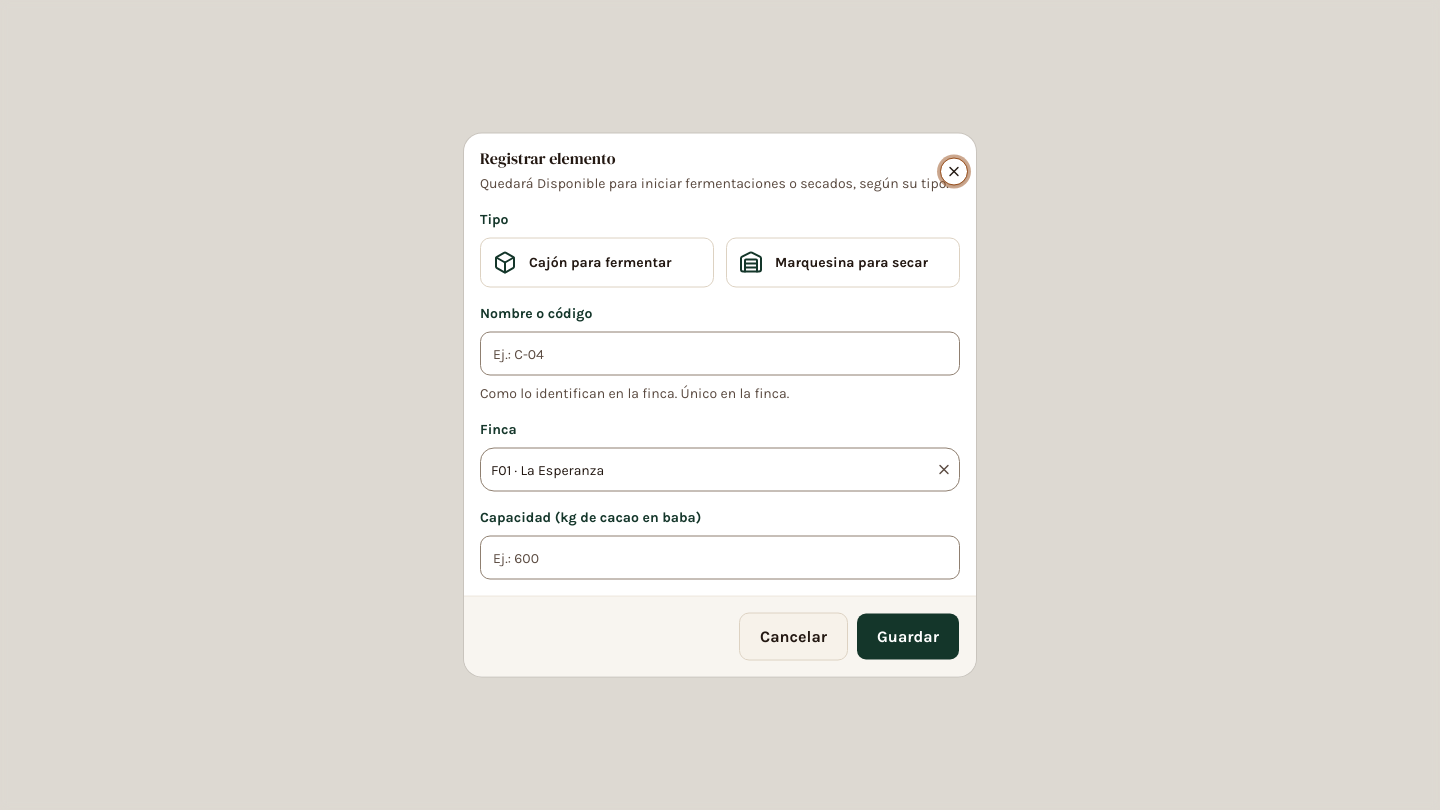
Test: the suggested name › proposes the next free name of the type chosen, and changes it with the type
Expected: the field labelled "Nombre o código" is empty, x1=480 y1=332 x2=960 y2=376
Click the radio button labelled "Cajón para fermentar": (597, 262) x1=480 y1=238 x2=714 y2=288
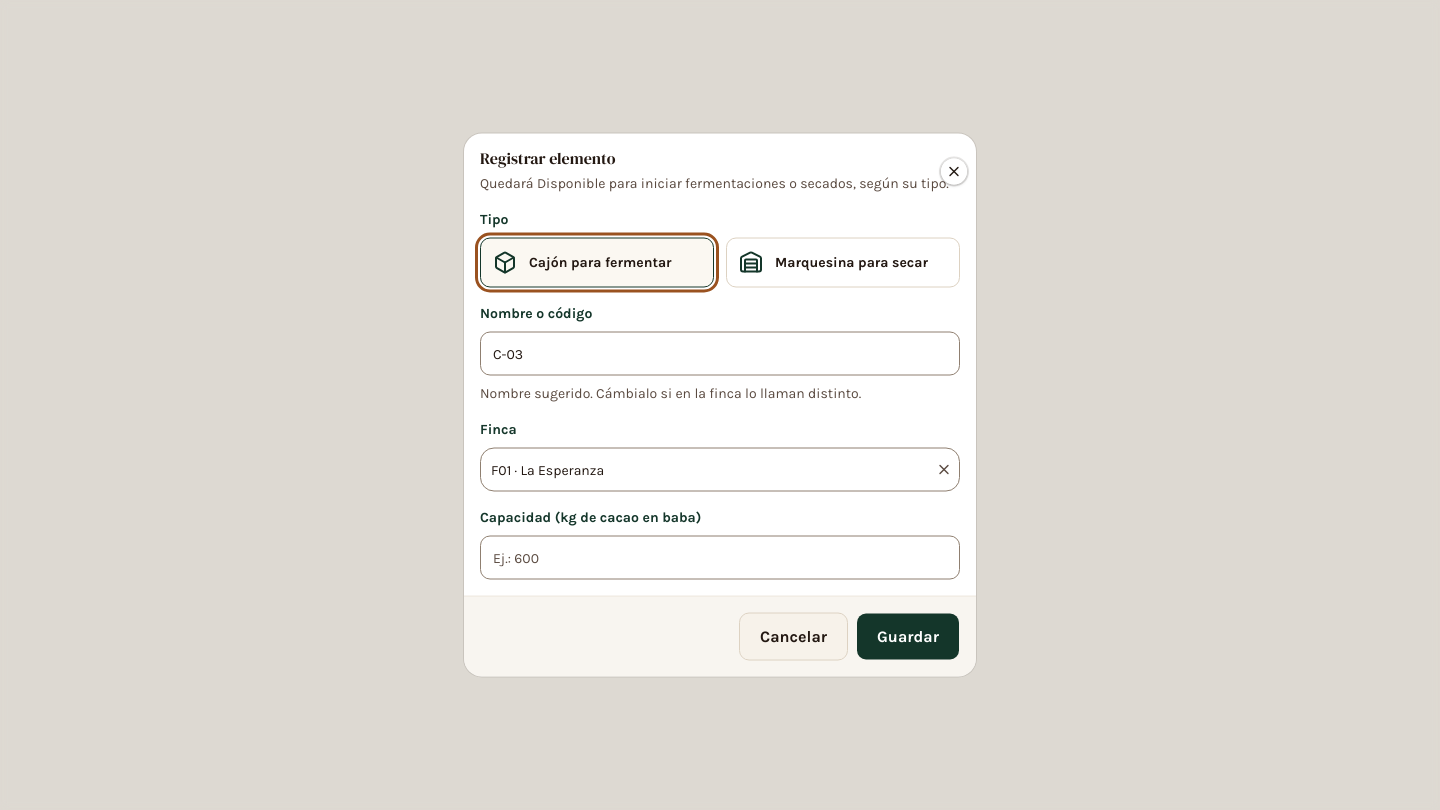
Now the field labelled "Nombre o código" holds "C-03", box x1=480 y1=332 x2=960 y2=376
Now the text "Nombre sugerido. Cámbialo si en la finca lo llaman distinto." is shown, box x1=480 y1=384 x2=861 y2=402
Click the radio button labelled "Marquesina para secar": (843, 262) x1=726 y1=238 x2=960 y2=288
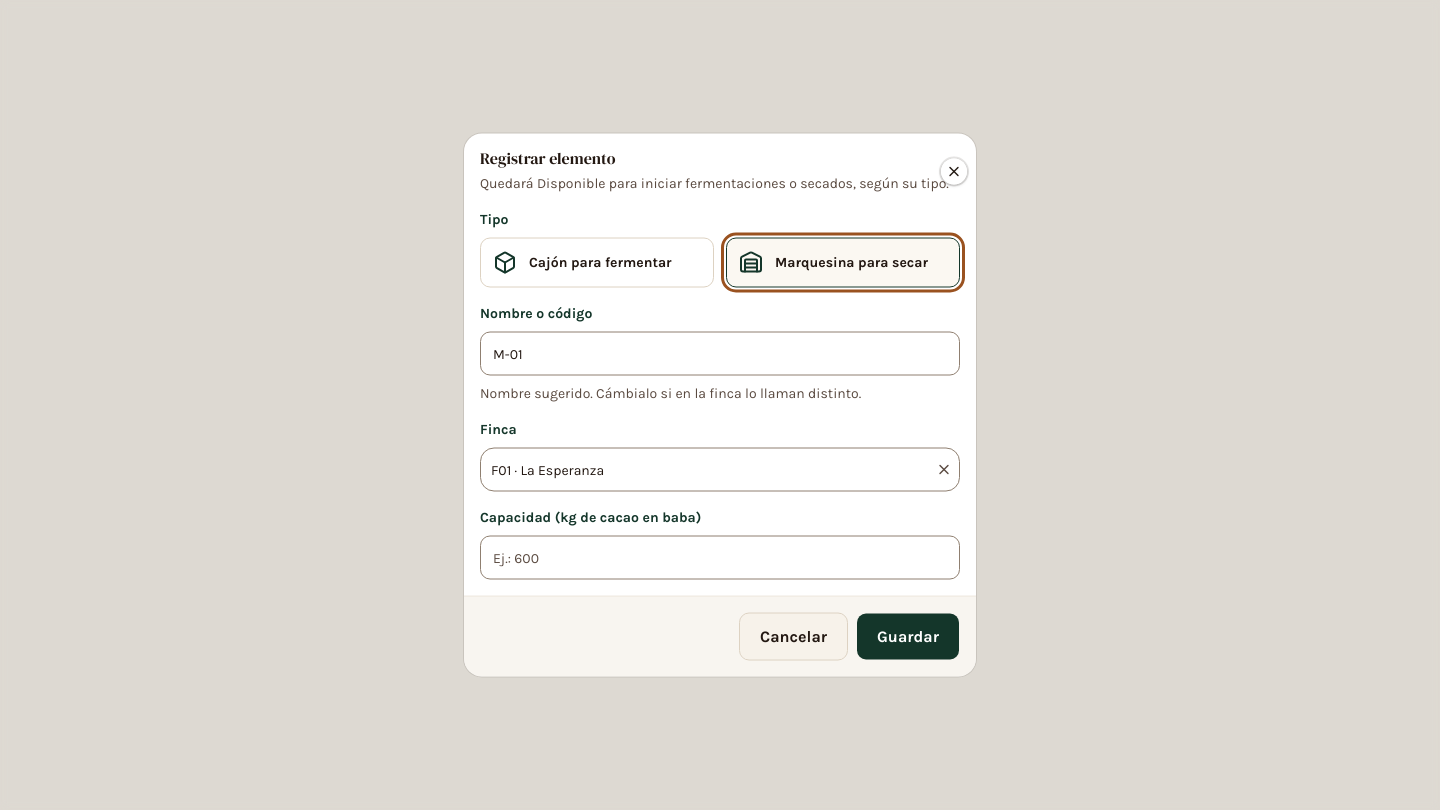
Now the field labelled "Nombre o código" holds "M-01", box x1=480 y1=332 x2=960 y2=376
